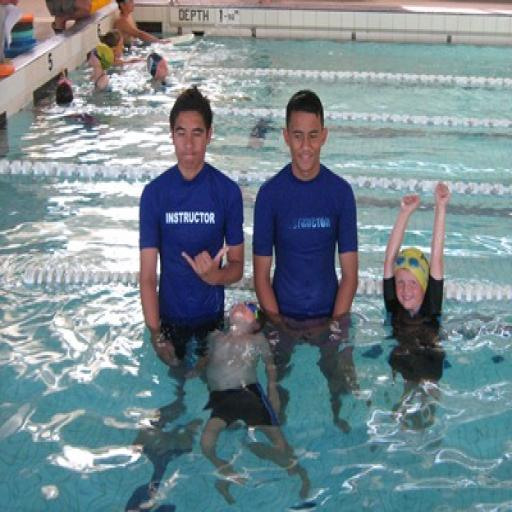swimming: (108, 62, 486, 471)
